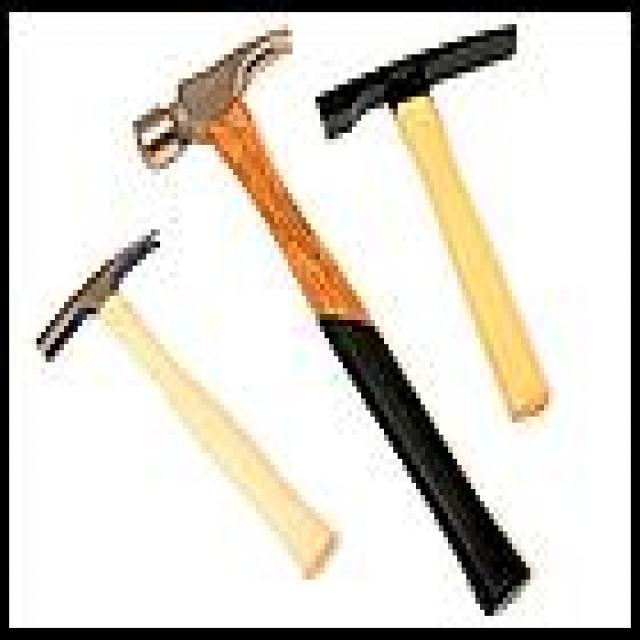hammer: (124, 8, 535, 610), (24, 222, 340, 582), (314, 12, 584, 428)
